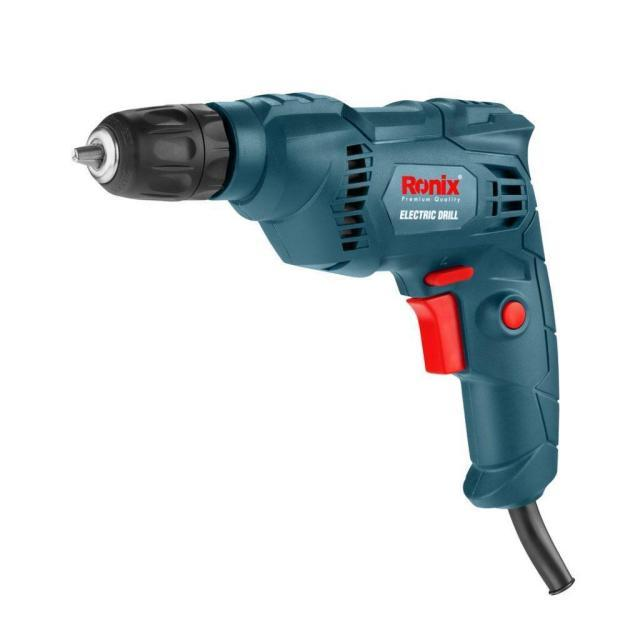drill: (71, 91, 577, 596)
